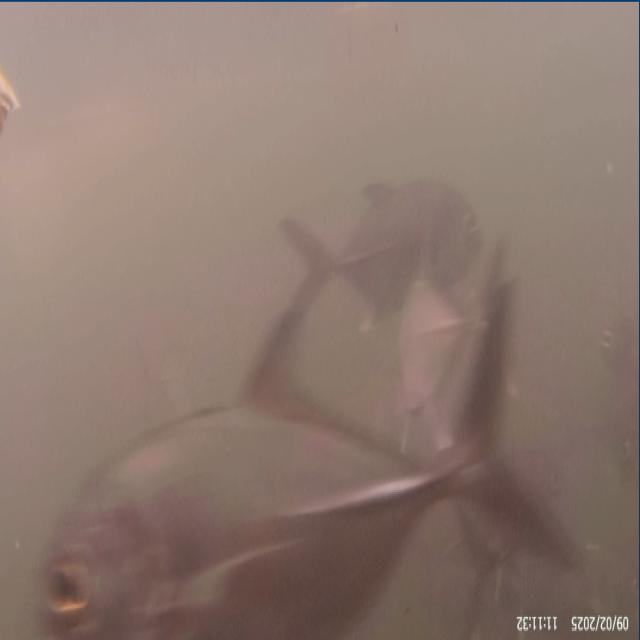ikan: (34, 176, 577, 634), (239, 175, 484, 412)
